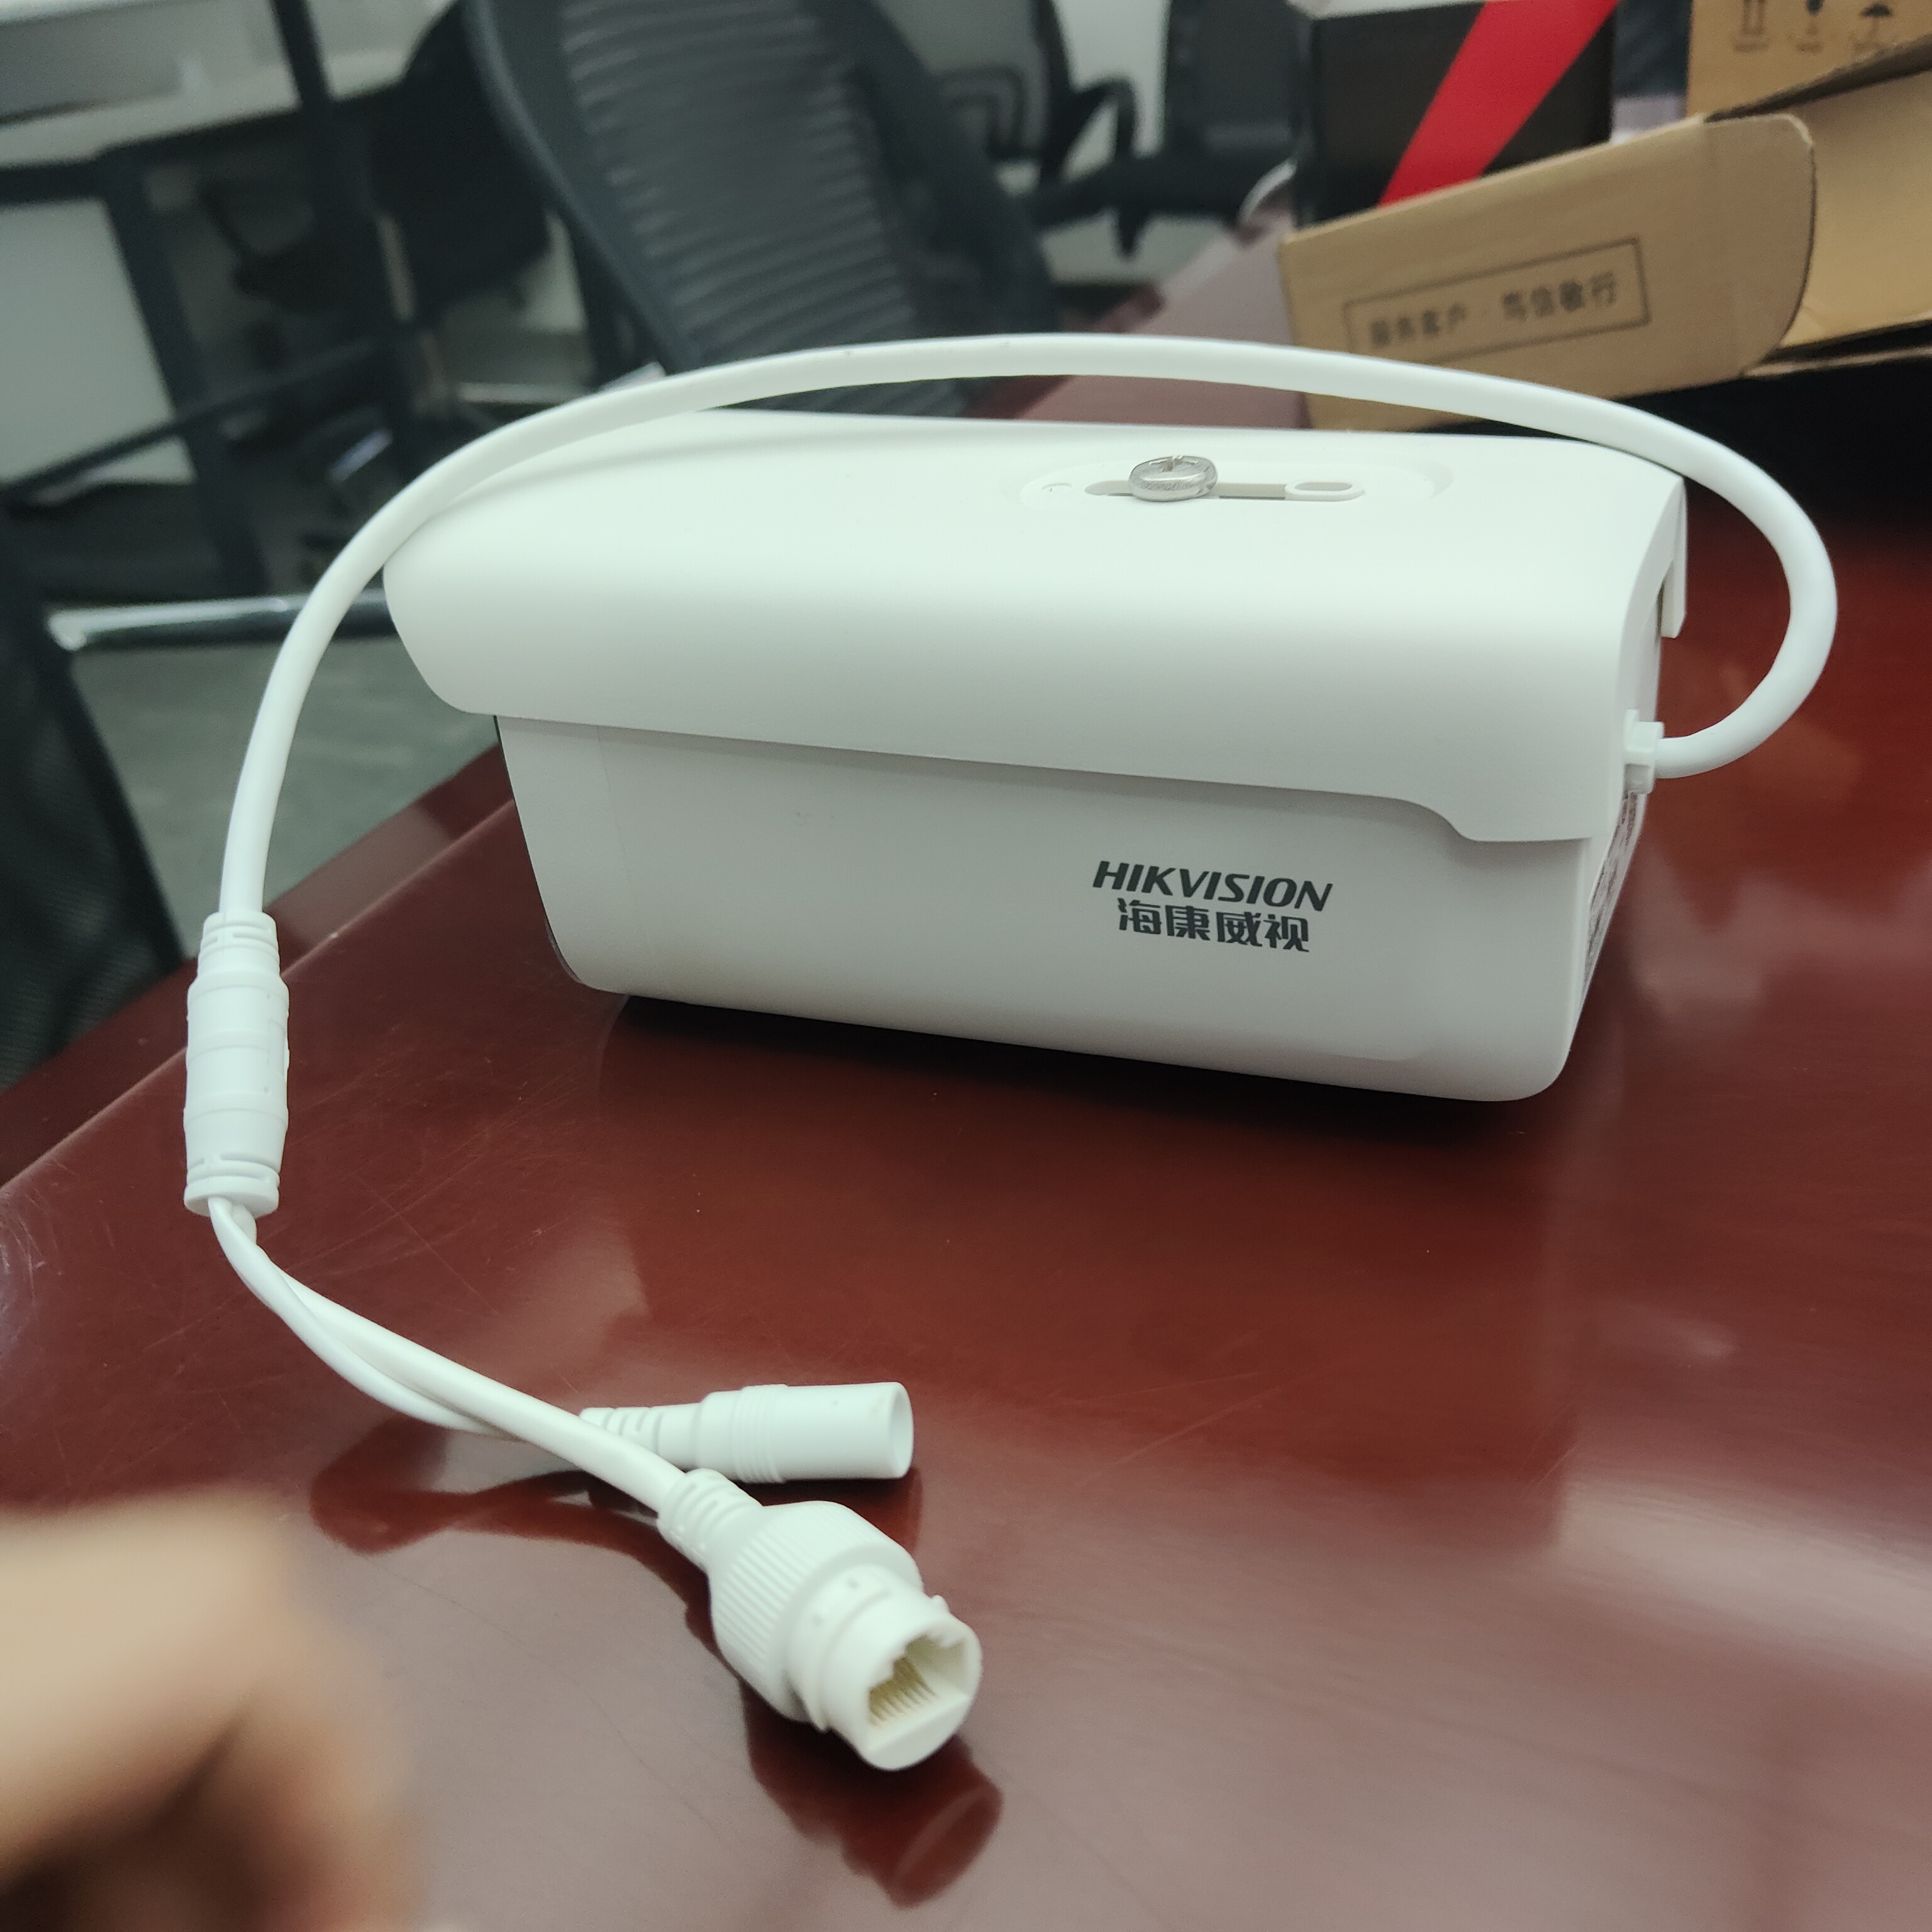hkws: (391, 331, 1764, 1184)
